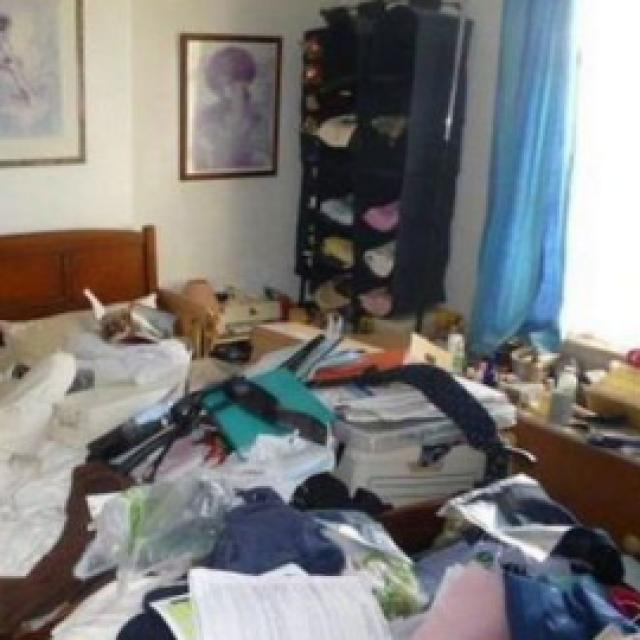mess: (40, 386, 640, 640)
